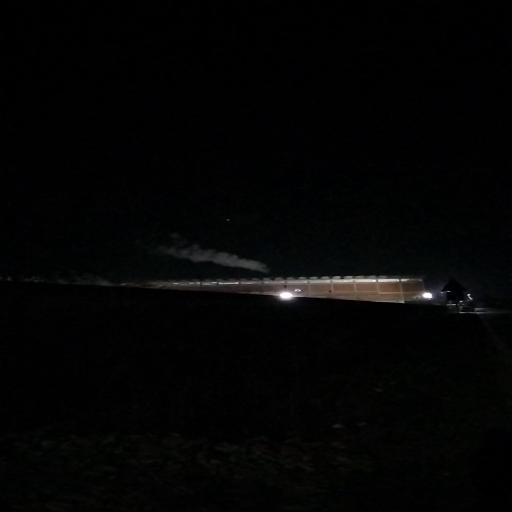leakage: (160, 228, 278, 278)
